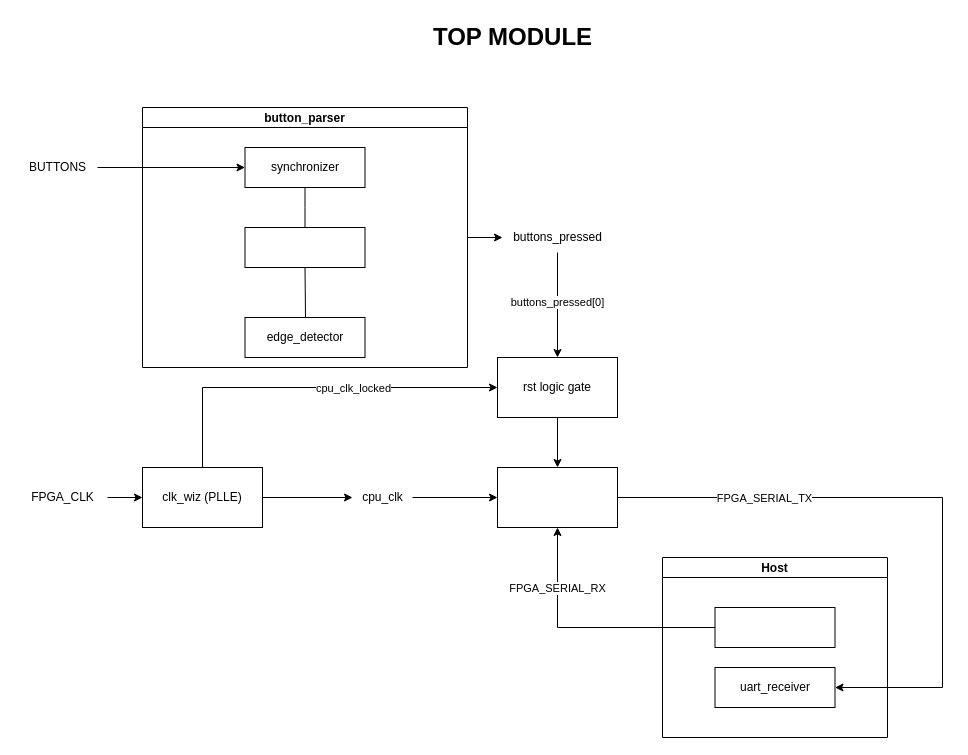
Some shapes in this 968 by 755 pixel diagram are drawn without their labels. The shapes that lost their labels are listed below. From the top down, each one's centre as x and y in pixels, then its label:
At point (304, 247): "debouncer".
At point (557, 497): "CPU".
At point (774, 627): "uart_transmitter".
